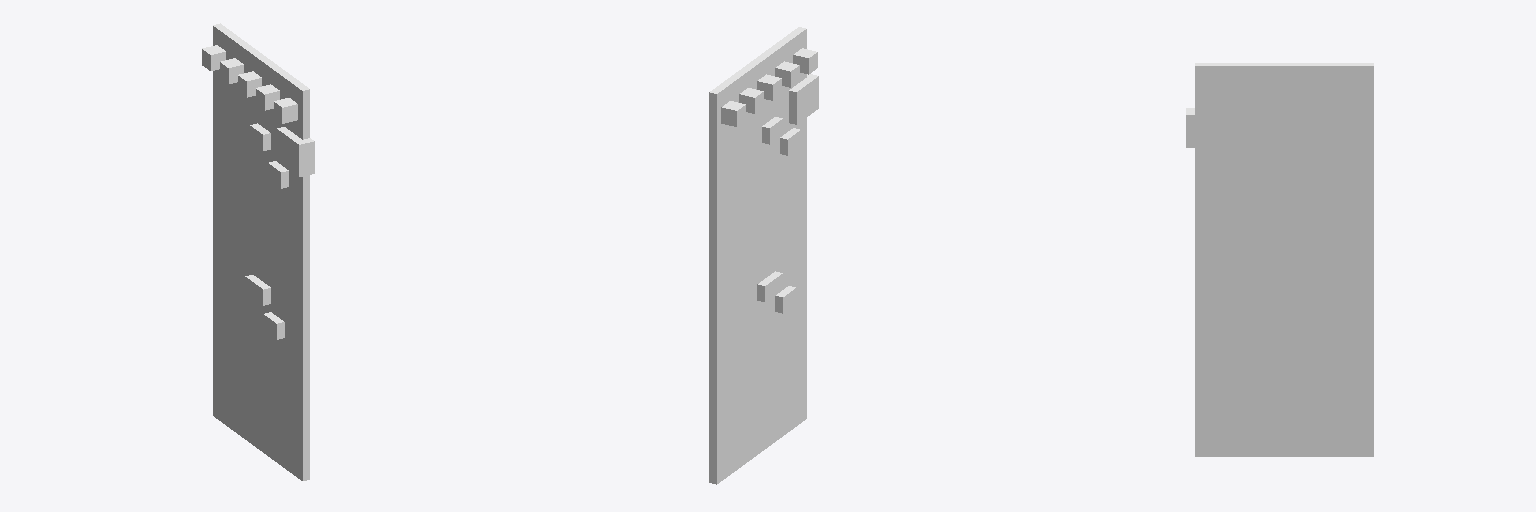
The model's file is TinyBuilding01-2.obj.
3 views of the same model, side by side, from view 1: azimuth 30°, elevation 25°; view 2: azimuth 150°, elevation 25°; view 3: azimuth 270°, elevation 25° (orthographic).
Parts seen in each view (by area): view 1: object 1; view 2: object 1; view 3: object 1.
Part boxes in pixels (bbox=[...]): object 1: bbox=[202, 23, 314, 480]; object 1: bbox=[709, 27, 818, 484]; object 1: bbox=[1186, 63, 1373, 456].
Size of the model in its own units: 0.3 by 4.8 by 2.1.